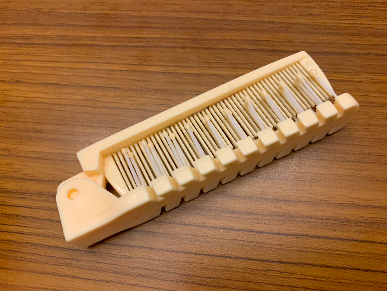object_name: (84, 51, 332, 207)
